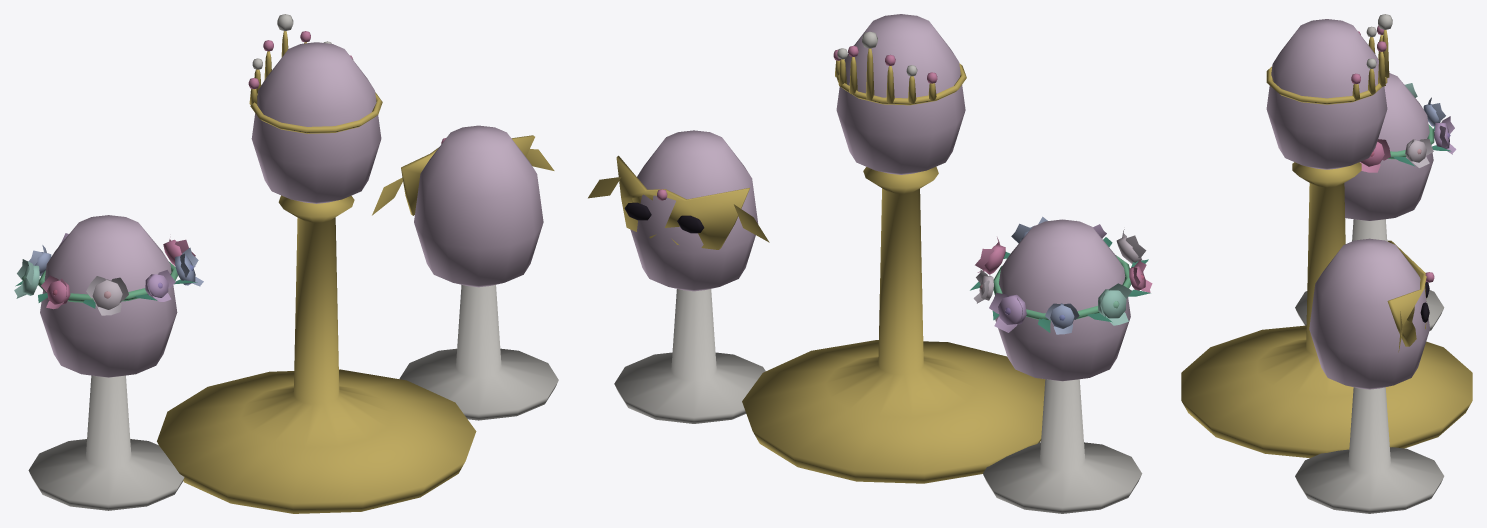
Rendered from seam_crown_stand.glb.
The picture shows the model from 3 angles, left to right: view 1: azimuth 30°, elevation 25°; view 2: azimuth 150°, elevation 25°; view 3: azimuth 270°, elevation 25°; orthographic projection. The views are drawn at different scales.
Parts seen in each view (by area): view 1: seam_crown_stand; view 2: seam_crown_stand; view 3: seam_crown_stand.
Boxes of the visible parts, x1,y1,x2,y2 form: seam_crown_stand: (14, 14, 558, 513); seam_crown_stand: (588, 14, 1152, 513); seam_crown_stand: (1181, 14, 1472, 513).
Size of what is drawn, in the model's own units: 0.819 by 0.597 by 0.409.
